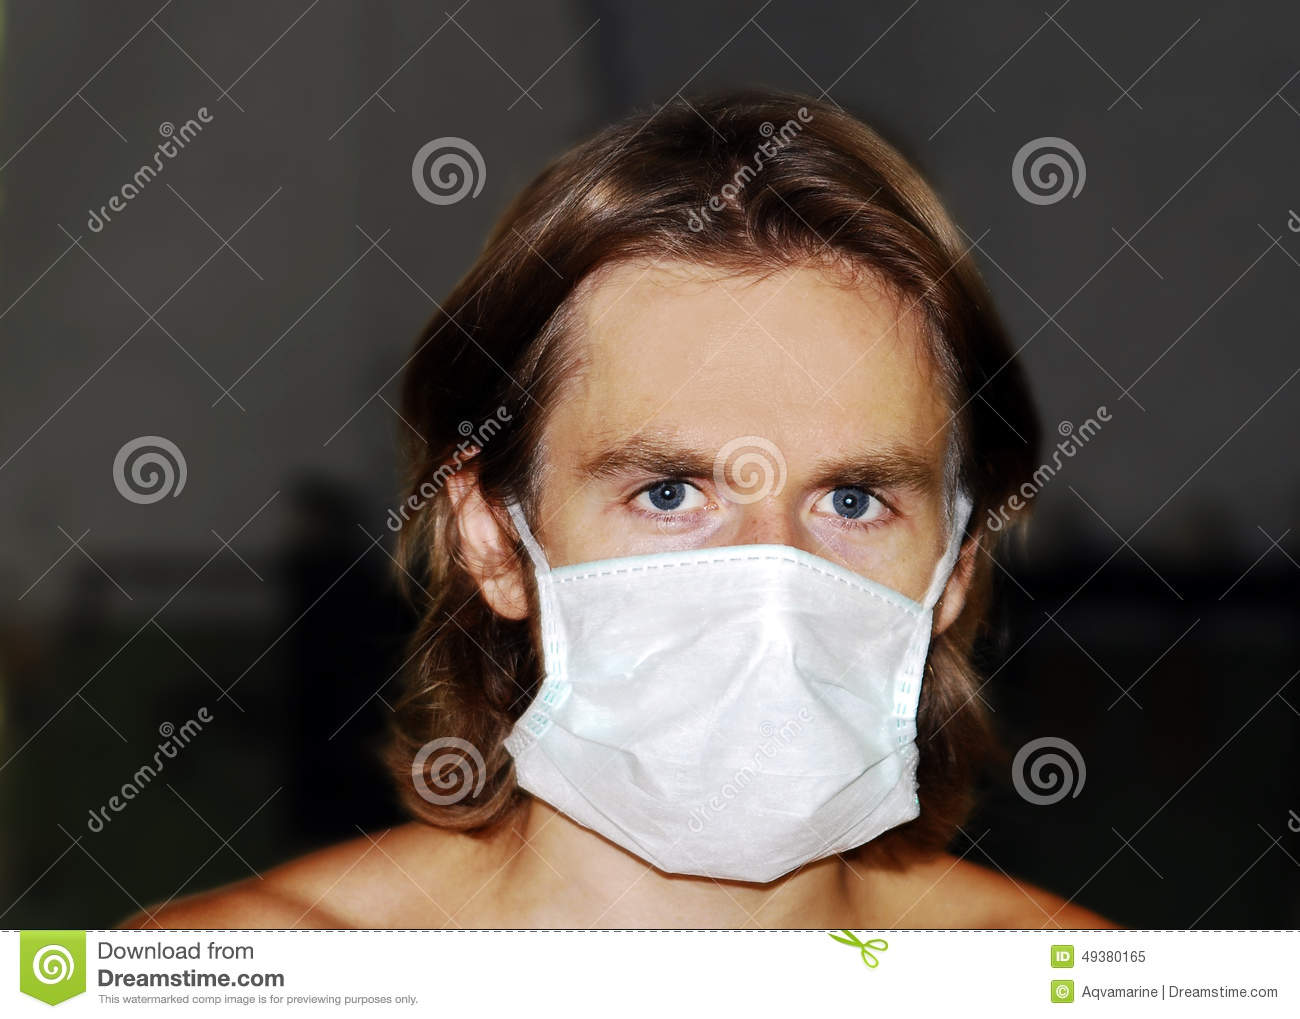mask: (546, 555, 943, 835)
